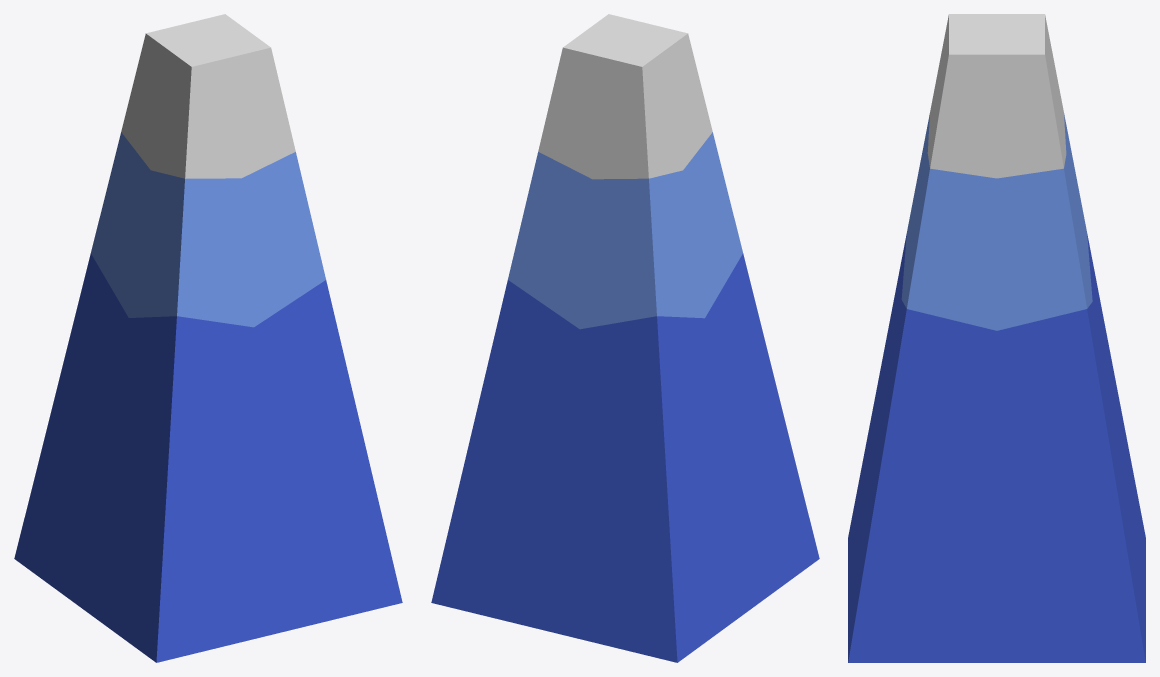
Rendered from Mountain.fbx.
3 renders of one model, left to right at view 1: azimuth 30°, elevation 25°; view 2: azimuth 150°, elevation 25°; view 3: azimuth 270°, elevation 25°, orthographic. The views are drawn at different scales.
Parts seen in each view (by area): view 1: Cube; view 2: Cube; view 3: Cube.
Part boxes in pixels (left/top/right/bottom): Cube: left=14, top=14, right=402, bottom=662; Cube: left=431, top=14, right=819, bottom=662; Cube: left=848, top=14, right=1145, bottom=662.
Size of the model in its own units: 510 by 1069 by 510.
